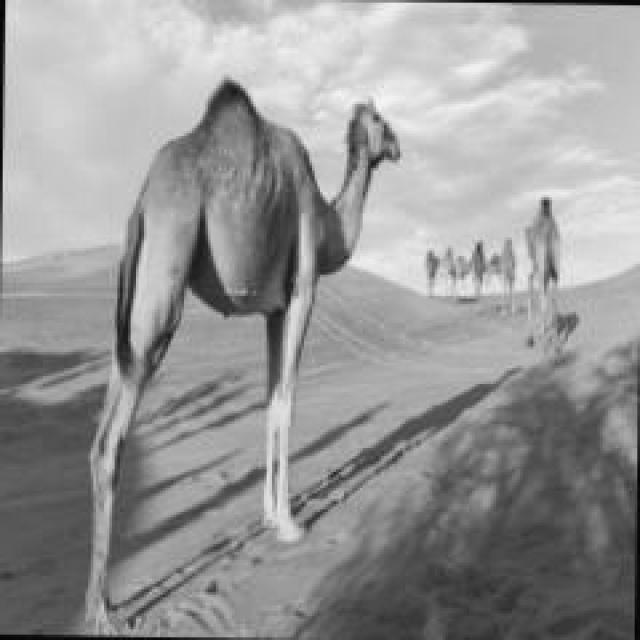Camel: (80, 75, 400, 634)
